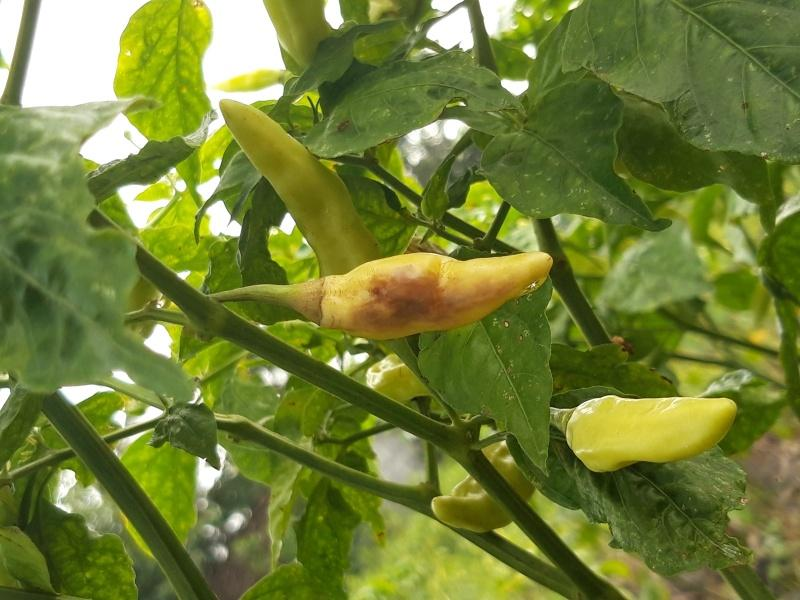cabai_normal: (218, 97, 381, 277), (565, 395, 739, 476)
lalat_buah: (321, 247, 554, 346)
